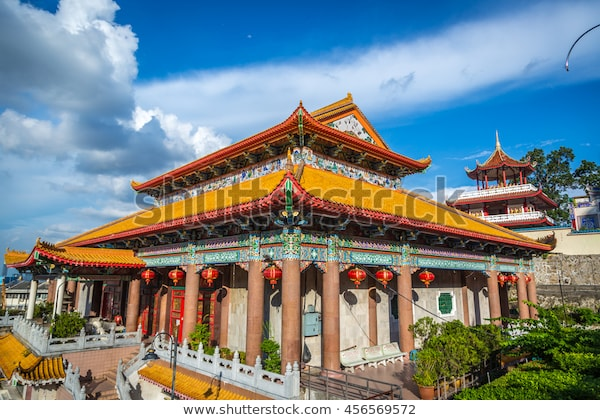Buddhist Temple: (45, 106, 529, 355)
